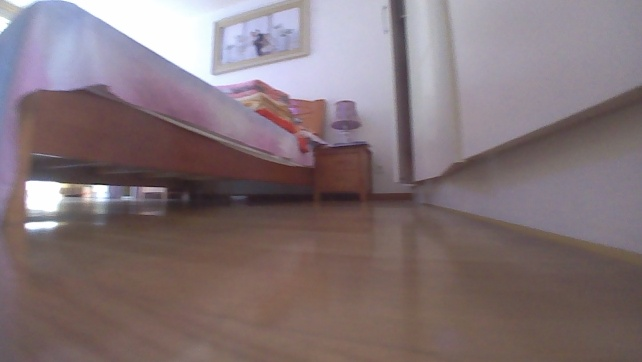bed: (0, 0, 327, 225)
cabinet: (310, 143, 374, 204)
